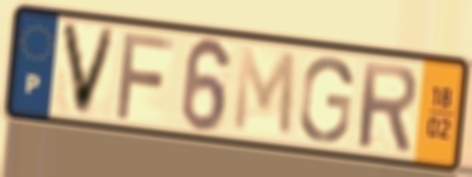6: (177, 35, 234, 136)
F: (113, 28, 178, 122)
G: (296, 54, 356, 146)
M: (230, 43, 299, 141)
R: (355, 57, 420, 155)
V: (57, 19, 121, 121)
